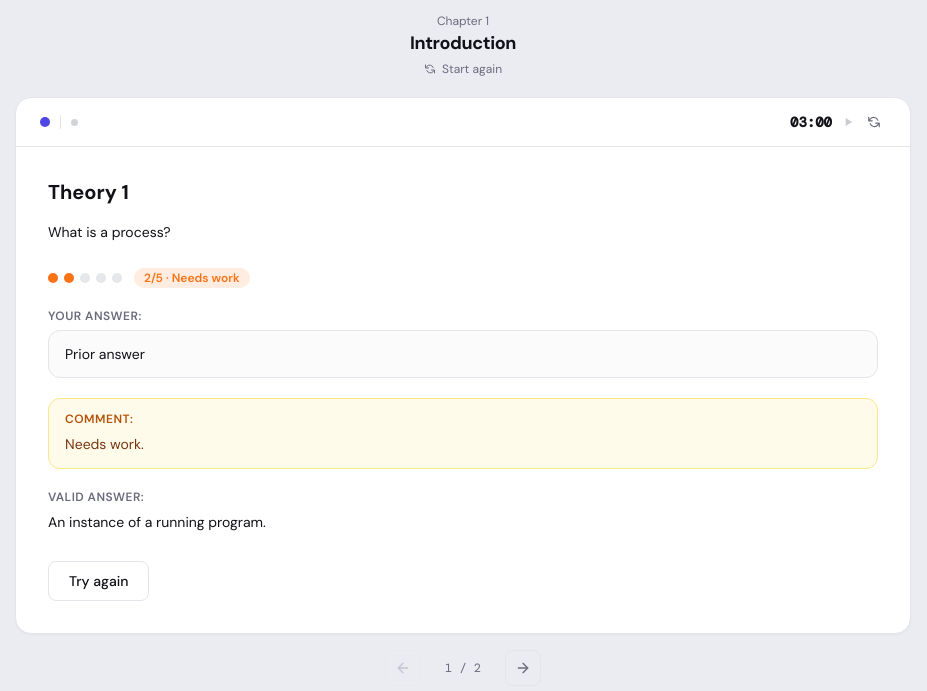
Scenario: Contest › returns to the editor when Try again is clicked
The width and height of the screenshot is (927, 691).
Click the button "Try again" at (99, 581), box [48, 561, 150, 601]
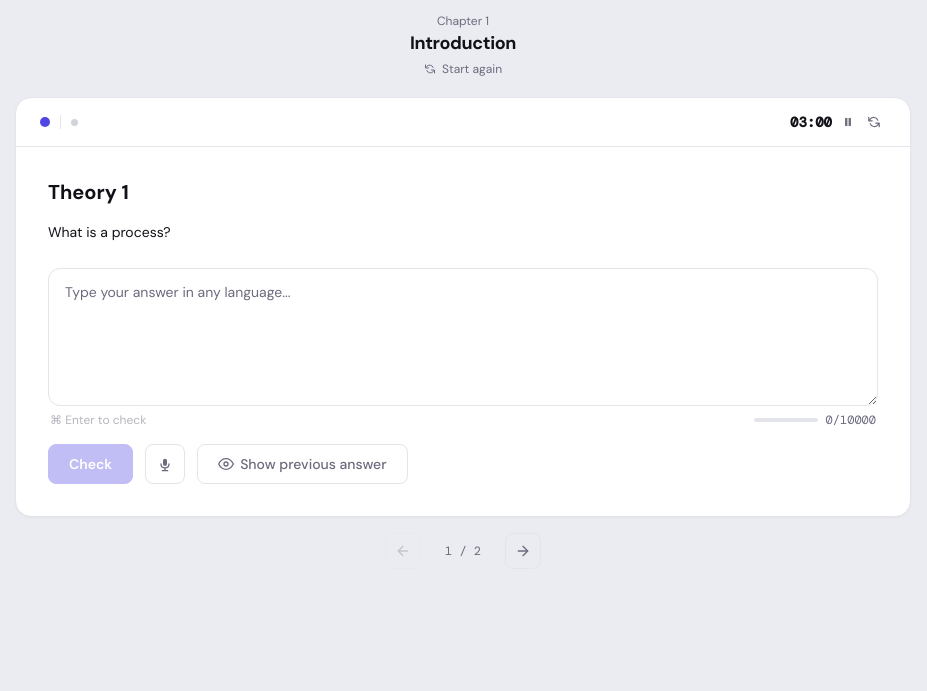
Now the text box with placeholder "Type your answer in any language..." is shown, box [48, 268, 878, 406]
Now the button "Check" is shown, box [48, 444, 133, 484]
